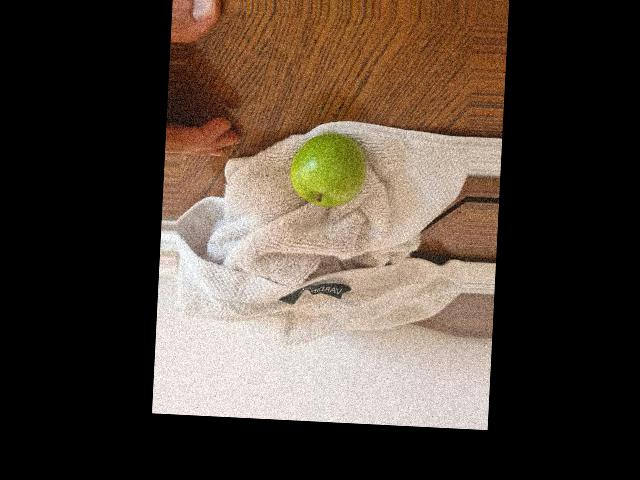apple: (288, 127, 365, 213)
